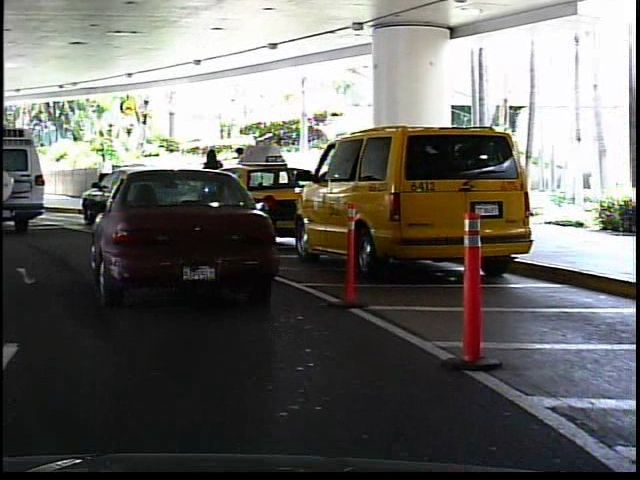person: (198, 142, 230, 207), (233, 139, 258, 207), (93, 146, 116, 202), (23, 155, 44, 198)
